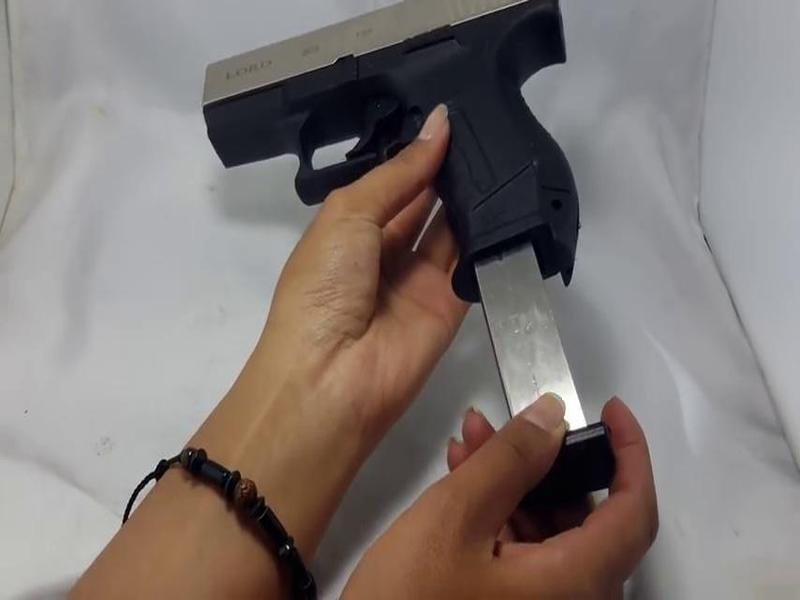Pistola: (184, 5, 606, 299)
